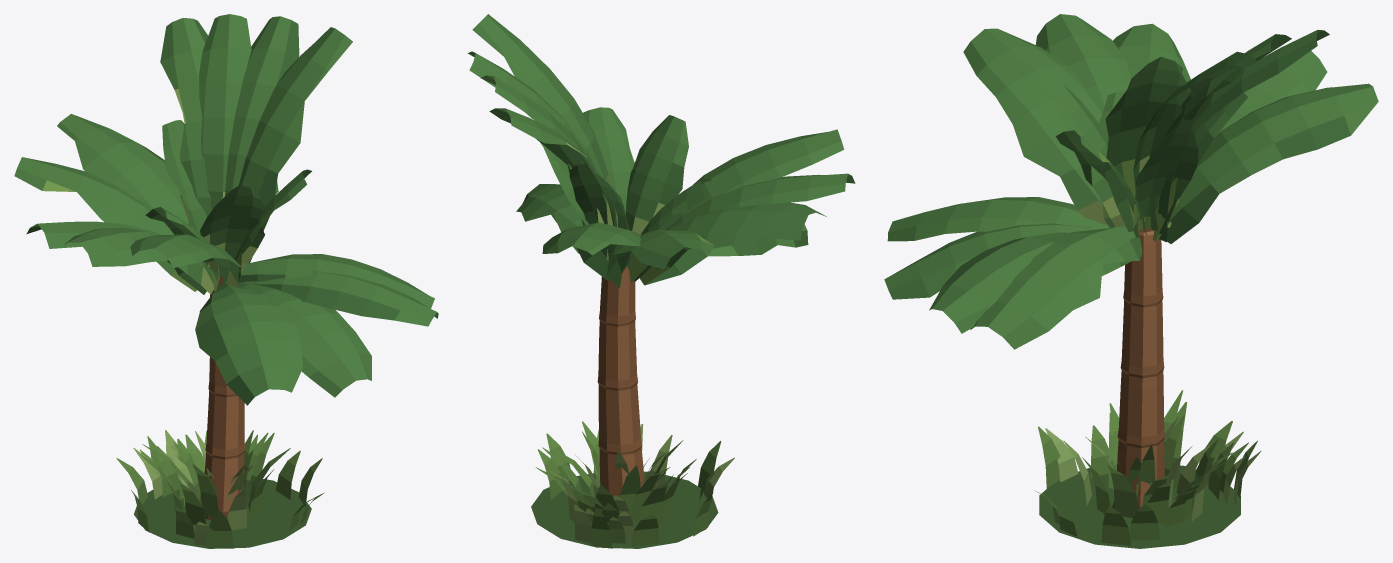
The model's file is m3f_banana_tree.glb.
The picture shows the model from 3 angles, left to right: view 1: azimuth 30°, elevation 25°; view 2: azimuth 150°, elevation 25°; view 3: azimuth 270°, elevation 25°; orthographic projection. The views are drawn at different scales.
Parts seen in each view (by area): view 1: M3FBanana_Leaves, M3FBanana_Grass, M3FBanana_Stalk; view 2: M3FBanana_Leaves, M3FBanana_Grass, M3FBanana_Stalk; view 3: M3FBanana_Leaves, M3FBanana_Grass, M3FBanana_Stalk.
Part boxes in pixels (bbox=[...]): M3FBanana_Leaves: bbox=[14, 14, 438, 405]; M3FBanana_Grass: bbox=[116, 430, 324, 548]; M3FBanana_Stalk: bbox=[204, 276, 245, 519]; M3FBanana_Leaves: bbox=[467, 14, 855, 287]; M3FBanana_Grass: bbox=[531, 421, 734, 548]; M3FBanana_Stalk: bbox=[597, 266, 644, 496]; M3FBanana_Leaves: bbox=[884, 14, 1378, 349]; M3FBanana_Grass: bbox=[1035, 390, 1261, 548]; M3FBanana_Stalk: bbox=[1112, 227, 1164, 508].
Size of the model in its own units: 2.22 by 2.81 by 2.43.
